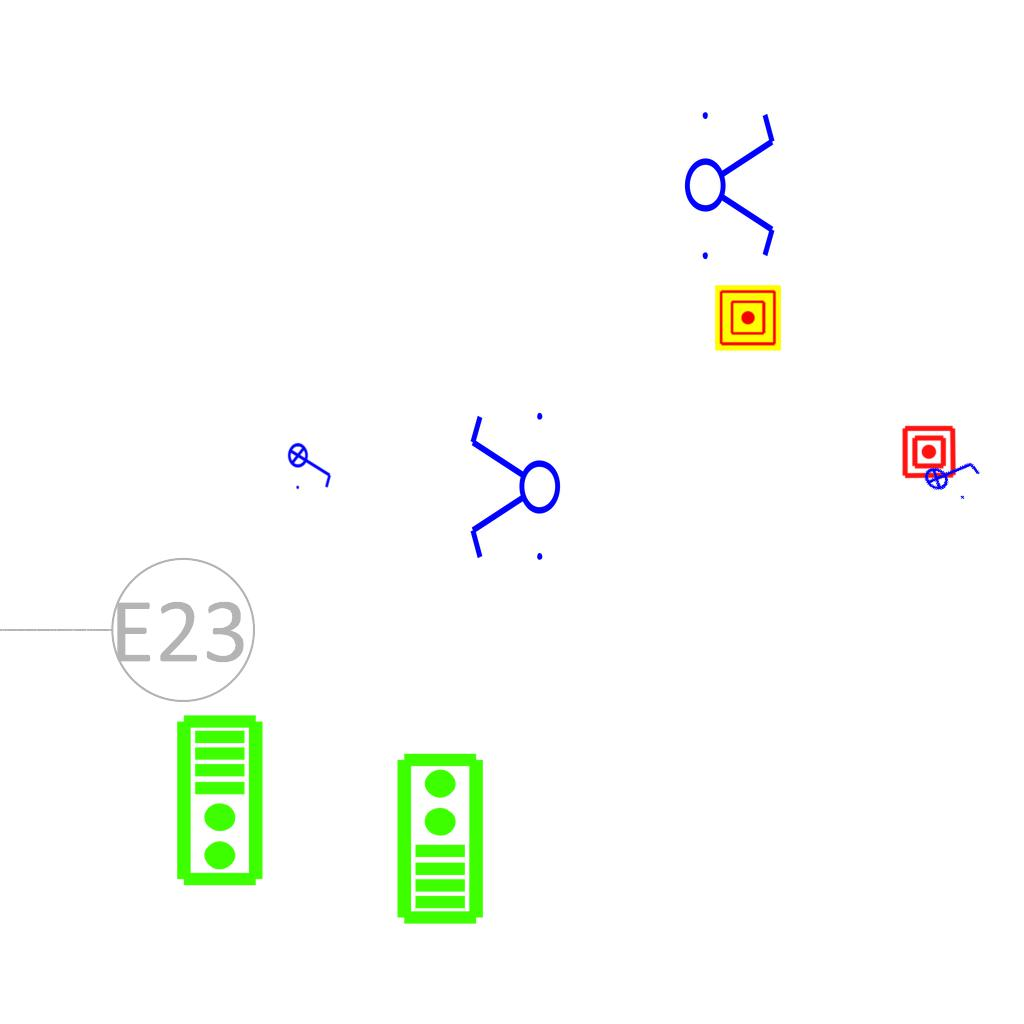Ausschalter_beleuchtet: (914, 437, 988, 509), (287, 436, 335, 492)
Gegensprechanlage_mit_Video: (174, 713, 269, 889), (391, 750, 486, 926)
NAM-Nichtautomatischer_Melder: (715, 285, 781, 351), (901, 424, 957, 480)
Serienschalter: (683, 100, 779, 268), (466, 404, 562, 572)
